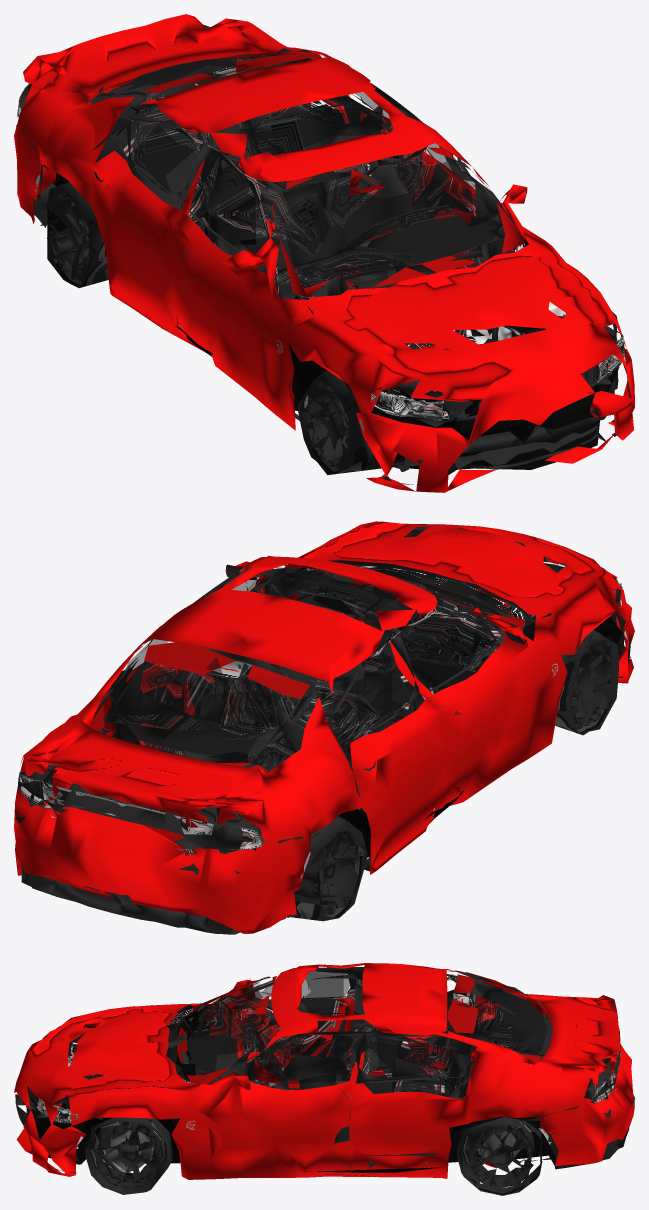
Rendered from 2015_dodge_charger_srt_hellcat.glb.
The picture shows the model from 3 angles, top to bottom: view 1: azimuth 30°, elevation 25°; view 2: azimuth 150°, elevation 25°; view 3: azimuth 270°, elevation 25°; orthographic projection. The views are drawn at different scales.
Visible parts, largest first — view 1: body; view 2: body; view 3: body.
Boxes of the visible parts, x1=… form: body: x1=14, y1=14, x2=634, y2=492; body: x1=14, y1=521, x2=634, y2=934; body: x1=14, y1=963, x2=634, y2=1195.
Bounding box in the file's own units: 2.06 × 1.46 × 5.04.
Materials: 12 (5 with a texture image).
